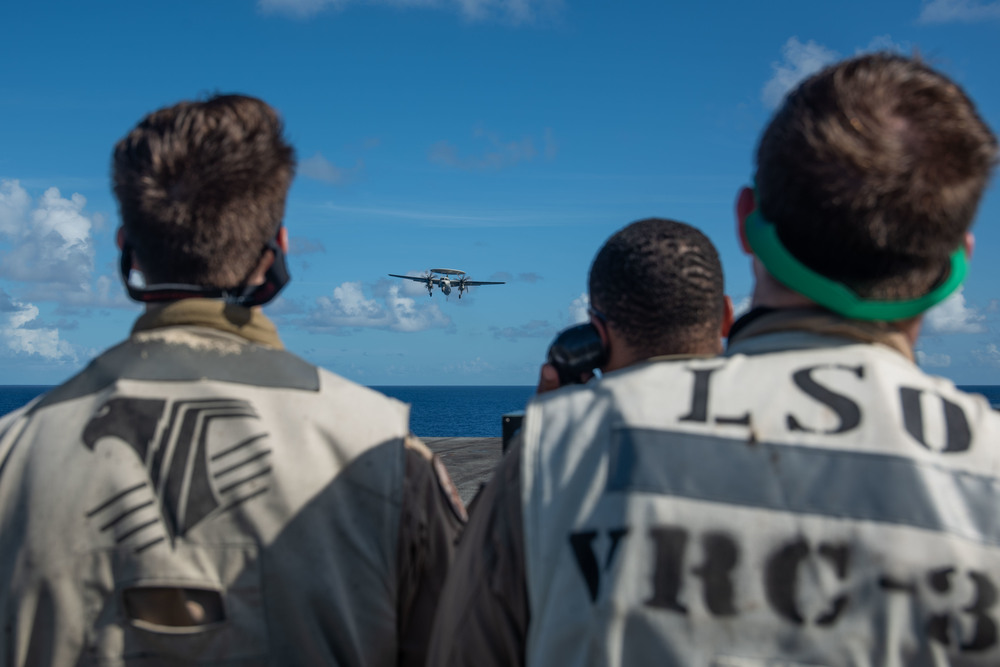E2: (387, 267, 507, 303)
